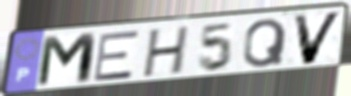5: (194, 20, 236, 74)
E: (92, 29, 141, 84)
H: (140, 24, 193, 80)
M: (34, 31, 100, 90)
Q: (242, 16, 290, 70)
V: (290, 10, 346, 67)
